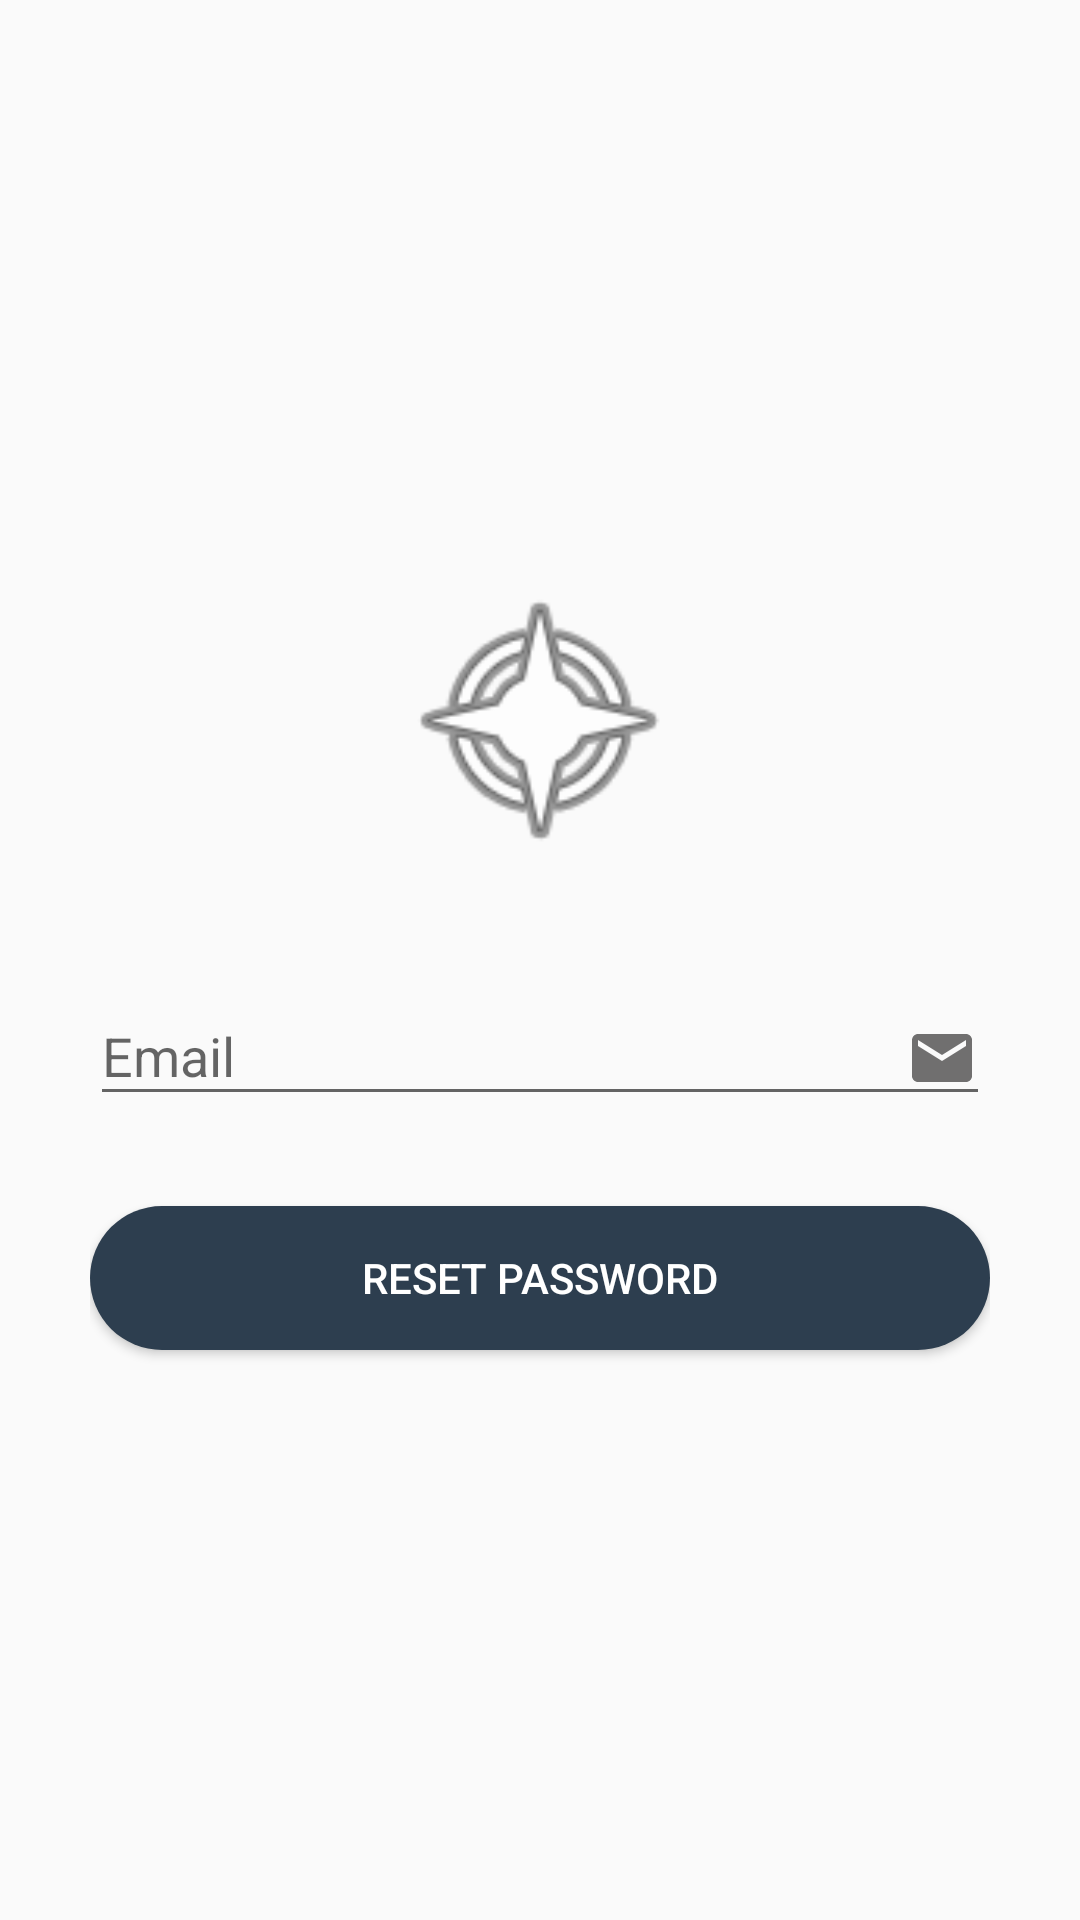

Icon bounding boxes for this 1080 x 1920 phone screenshot, format BBox(x1, y1, x2, y2):
compass: BBox(420, 602, 658, 839)
